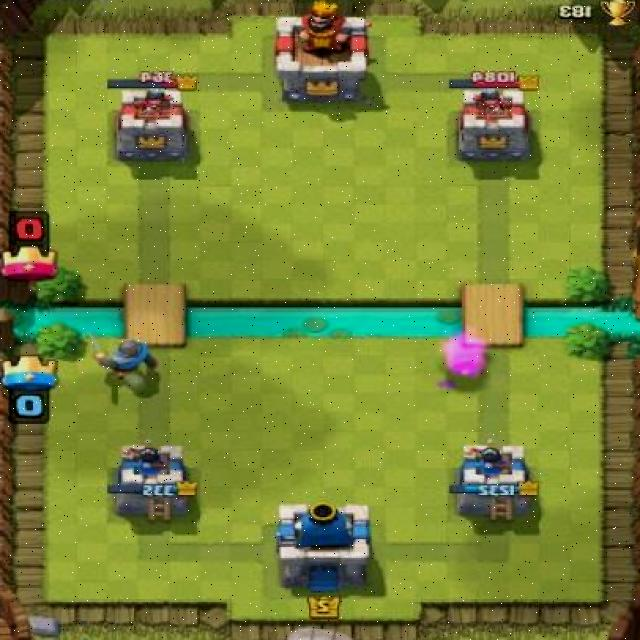Player-Knight: (80, 330, 161, 383)
